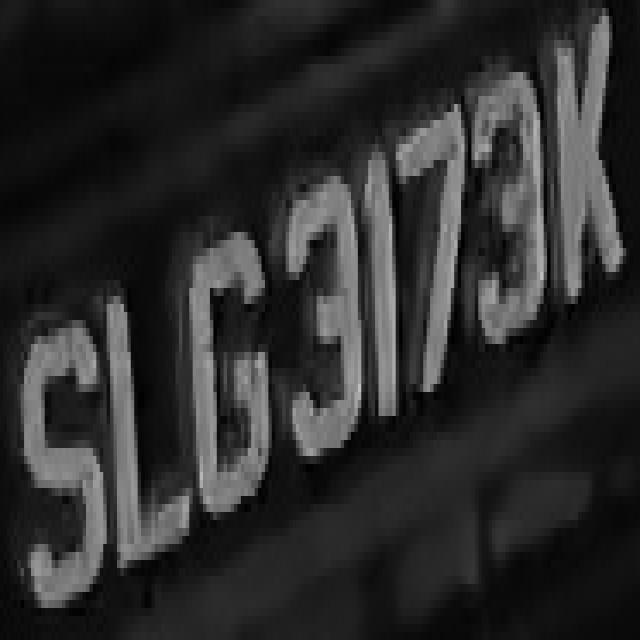1: (351, 128, 403, 488)
3: (265, 176, 368, 464), (464, 40, 544, 376)
7: (392, 72, 475, 424)
G: (179, 240, 272, 520)
K: (540, 24, 623, 320)
L: (96, 248, 200, 568)
S: (21, 288, 103, 616)
